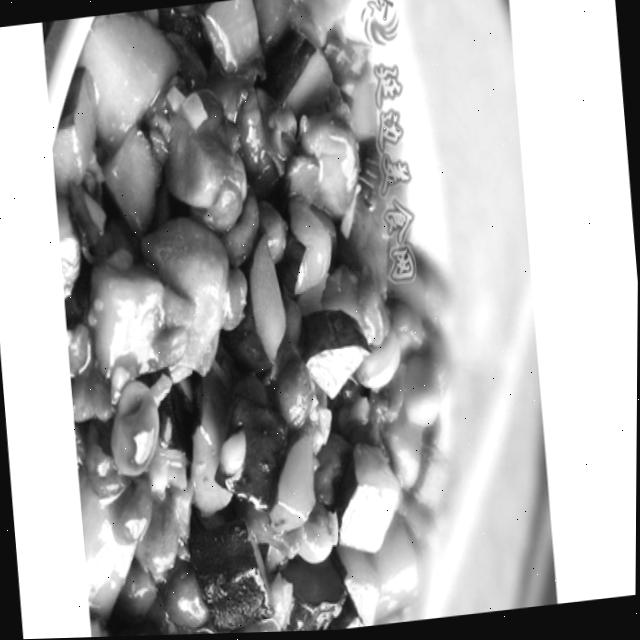鸡肉料理 含炸鸡: (42, 0, 519, 639)
